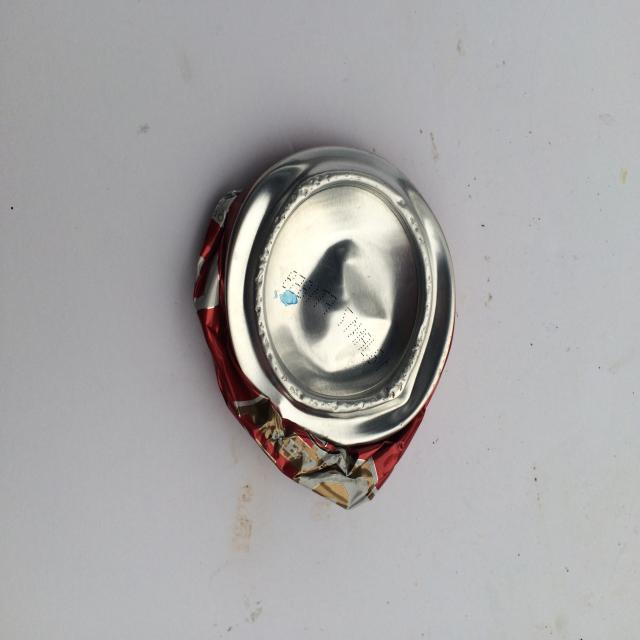metal: (193, 143, 457, 510)
